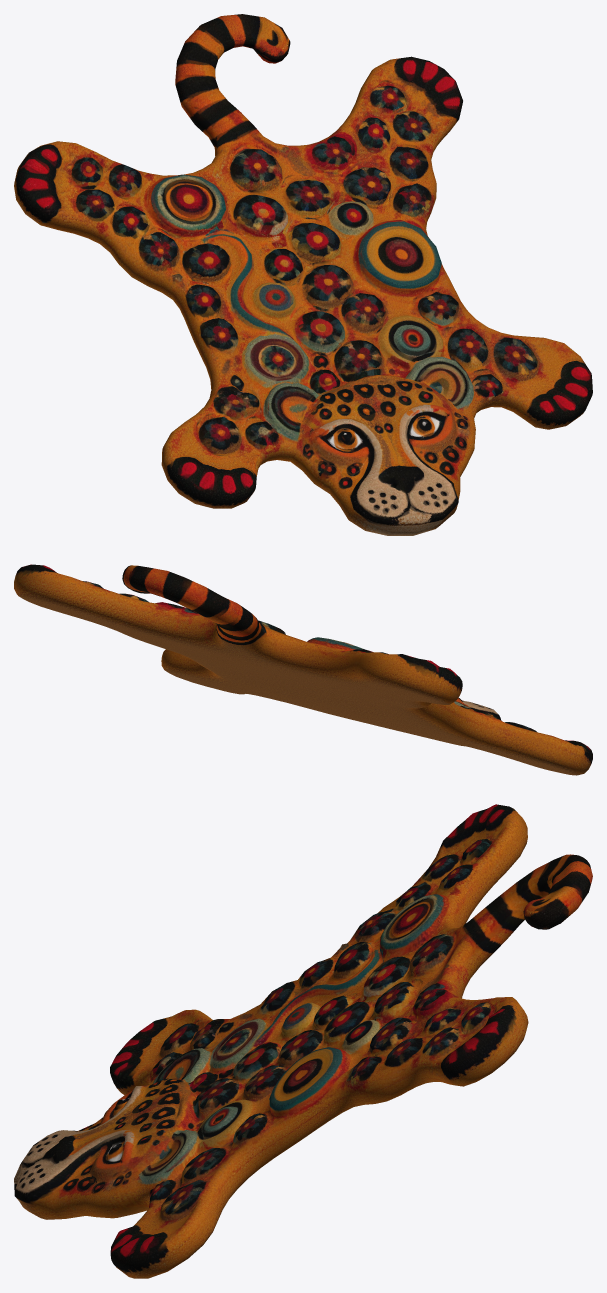
The model's file is tripo_convert_b2749703-ee81-4511-9d5b-1bdf3d6324f5.fbx.
3 views of the same model, one above another, from view 1: azimuth 30°, elevation 25°; view 2: azimuth 150°, elevation 25°; view 3: azimuth 270°, elevation 25° (orthographic). The views are drawn at different scales.
Visible parts, largest first — view 1: tripo_node_b2749703; view 2: tripo_node_b2749703; view 3: tripo_node_b2749703.
Boxes of the visible parts, <box> form: tripo_node_b2749703: <box>14,14,592,535</box>; tripo_node_b2749703: <box>14,564,592,775</box>; tripo_node_b2749703: <box>14,804,592,1278</box>.
Bounding box in the file's own units: 0.9618 × 0.6859 × 0.9775.
Materials: 1 (1 with a texture image).
